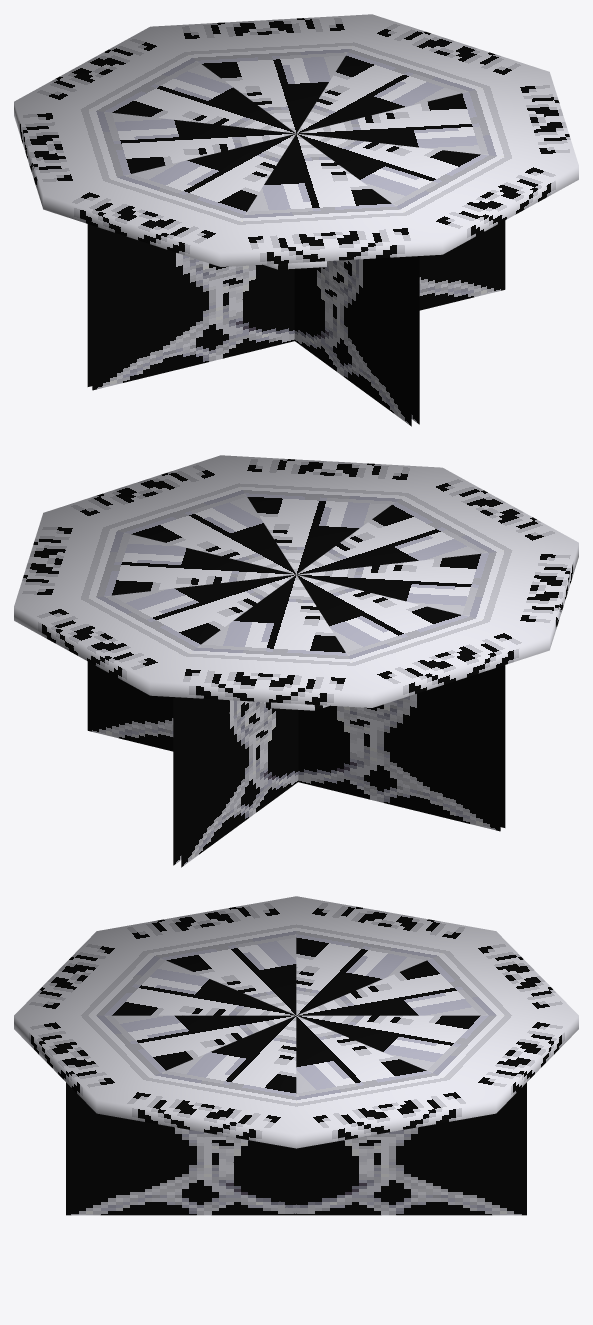
3 views of the same model, one above another, from view 1: azimuth 30°, elevation 25°; view 2: azimuth 150°, elevation 25°; view 3: azimuth 270°, elevation 25° (orthographic). The views are drawn at different scales.
Visible parts, largest first — view 1: 3551TEASET00_00; view 2: 3551TEASET00_00; view 3: 3551TEASET00_00.
Part boxes in pixels (box(x1,y1,x2,y2)): 3551TEASET00_00: box(14, 14, 578, 426); 3551TEASET00_00: box(14, 455, 578, 867); 3551TEASET00_00: box(14, 896, 578, 1215).
Size of the model in its own units: 1.94 by 0.75 by 1.94.
Materials: 1 (1 with a texture image).
